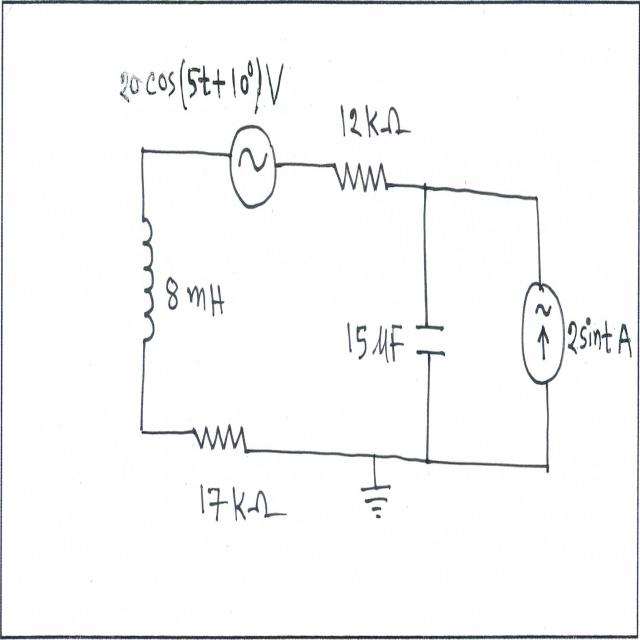ac_current: (227, 115, 282, 214)
capacitor: (412, 317, 448, 369)
current_source: (520, 272, 567, 392)
ground: (358, 478, 396, 531)
inductor: (135, 207, 158, 358)
resistor: (328, 148, 397, 218), (187, 412, 253, 470)
